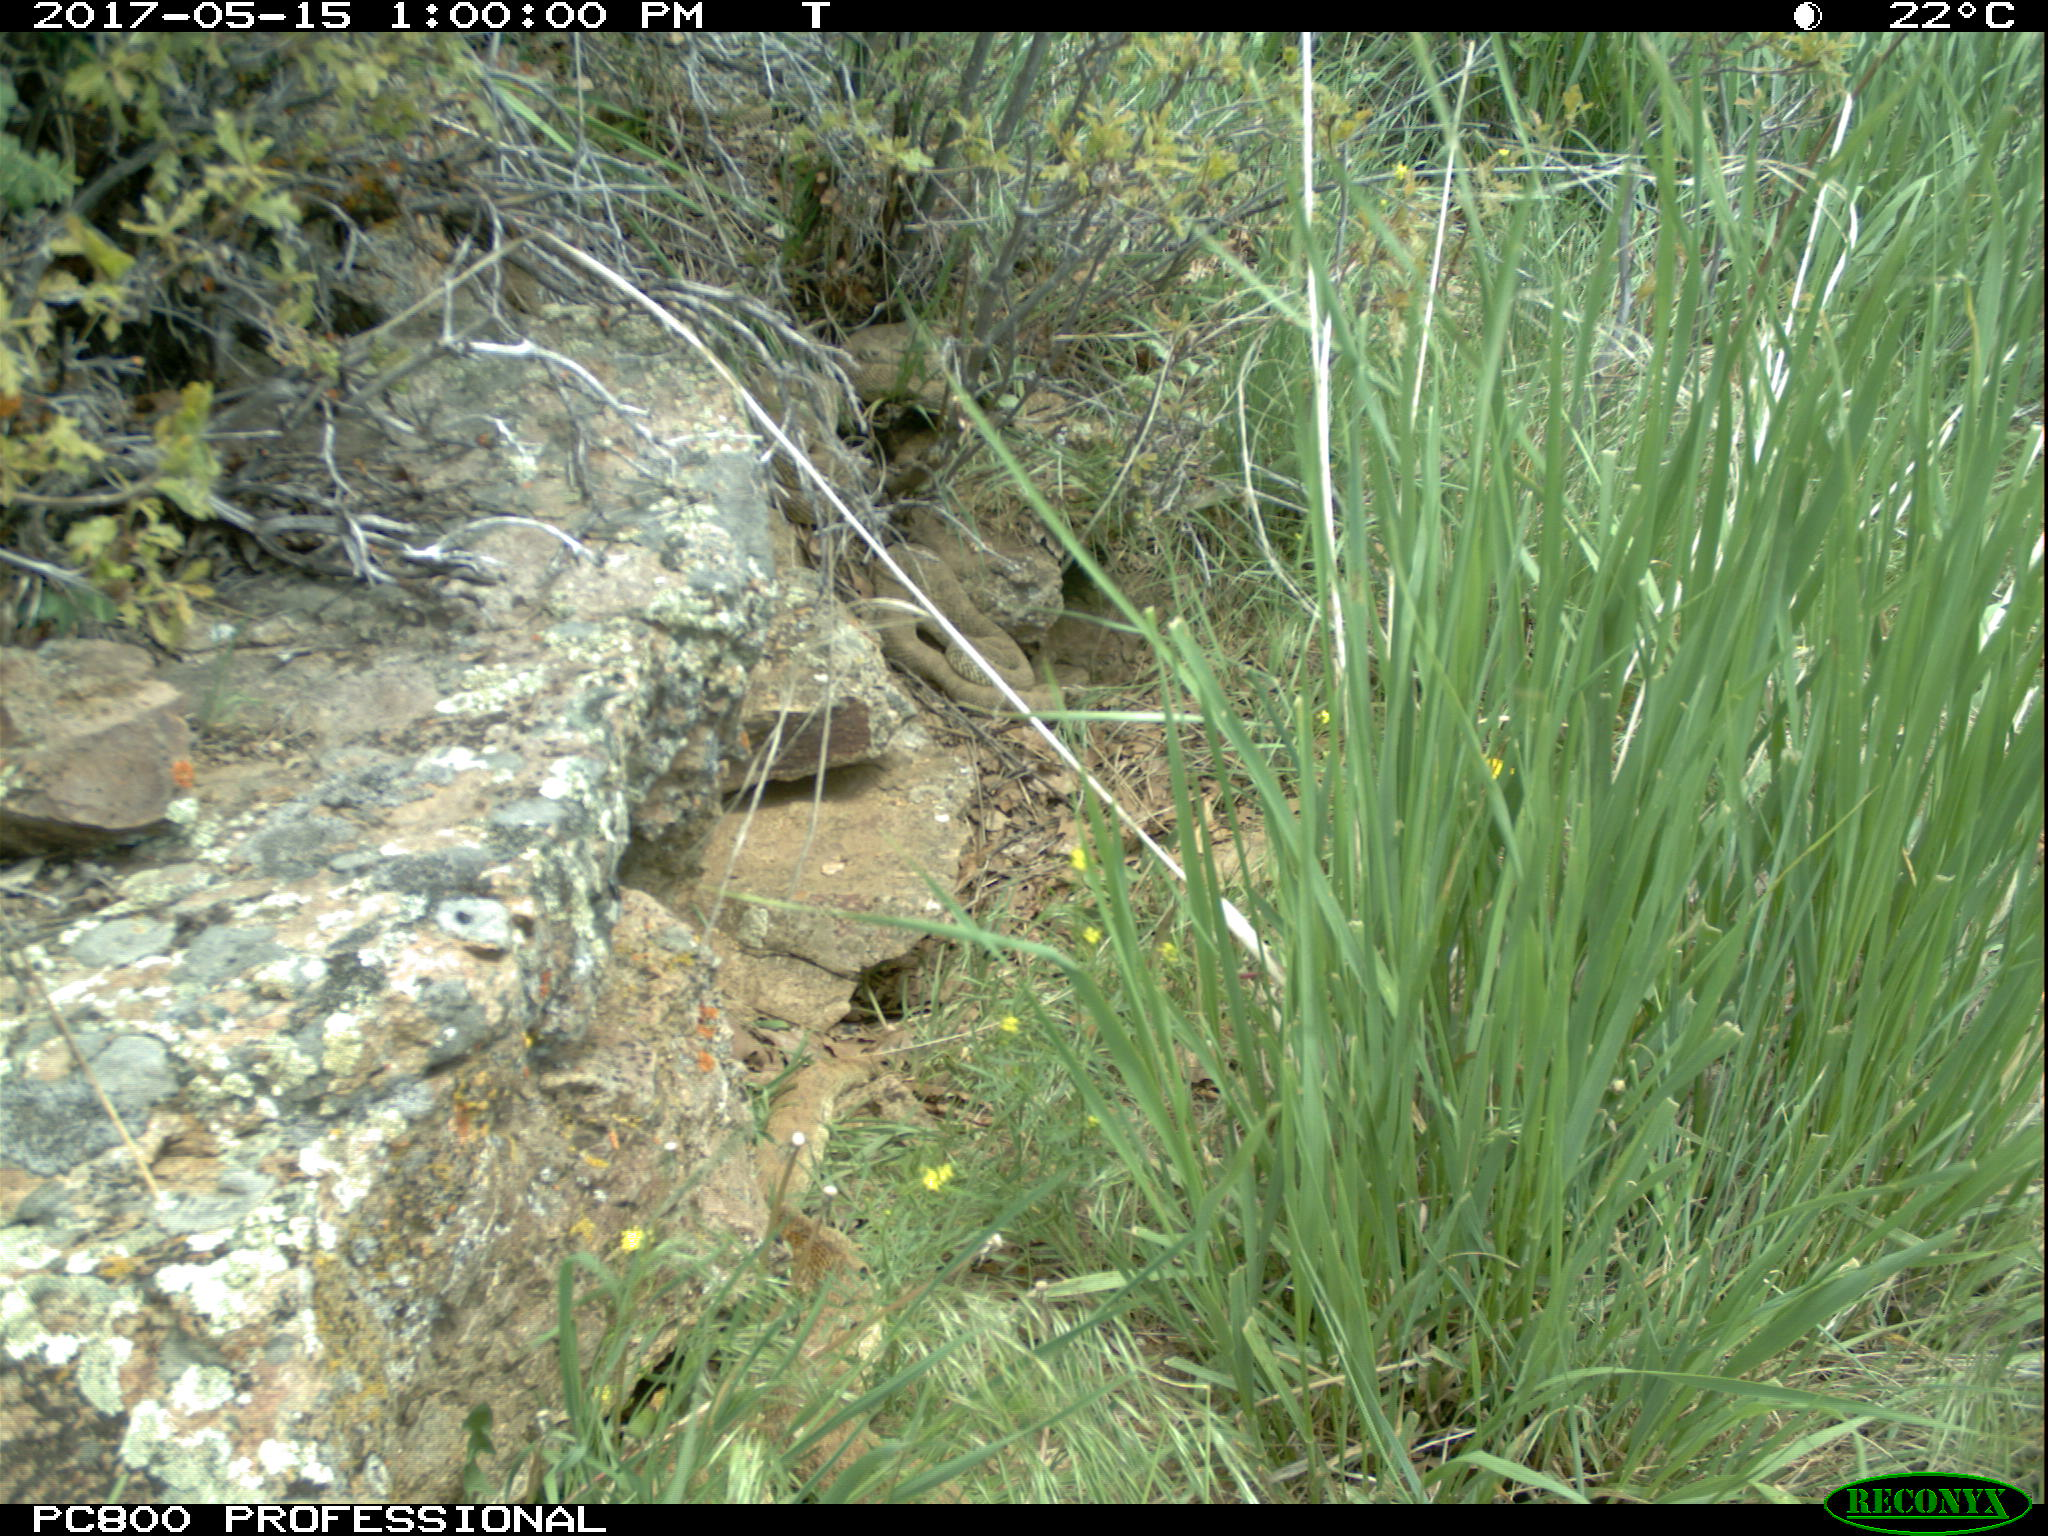snake: (760, 1062, 884, 1496), (868, 541, 1072, 721), (835, 316, 961, 402), (763, 428, 856, 518)
